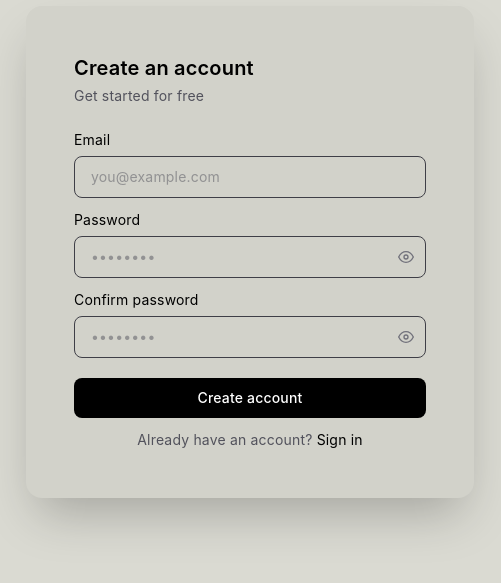
Test: RegisterForm › Validation › shows error for empty email
This screenshot has width=501, height=583.
Step 1. Click the button "Create account" → {"x": 250, "y": 398}, box [74,378,426,418]
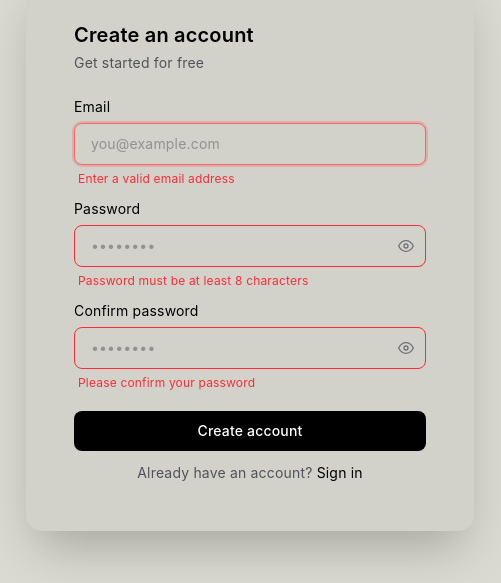
Expected: the text "Enter a valid email address" is shown, [78,171,235,186]
